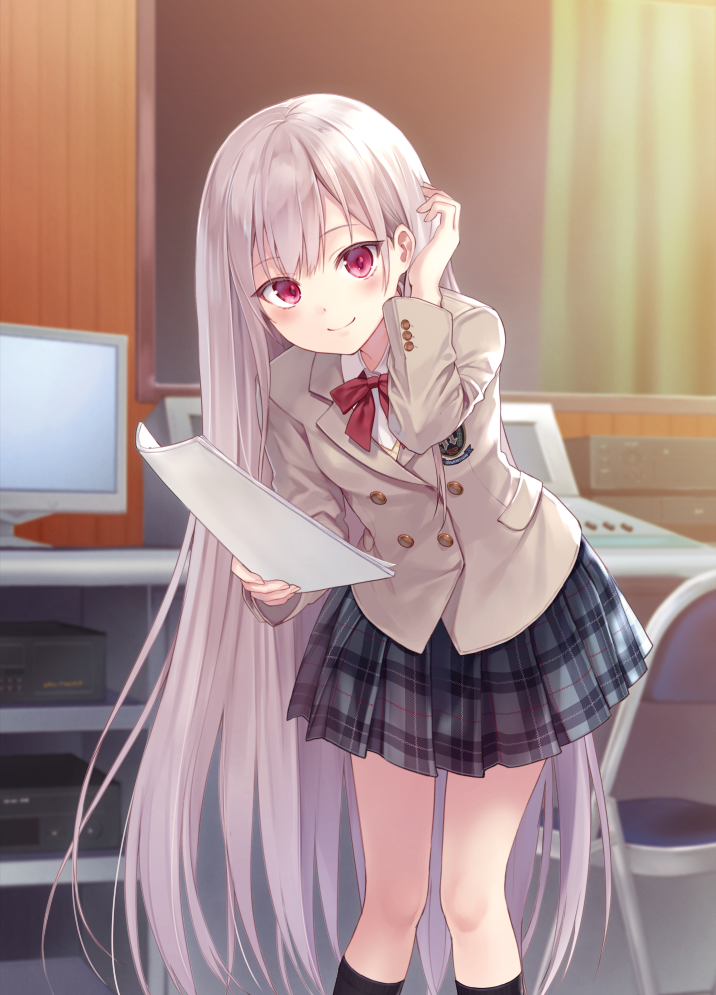纸片人正脸: (188, 85, 449, 366)
